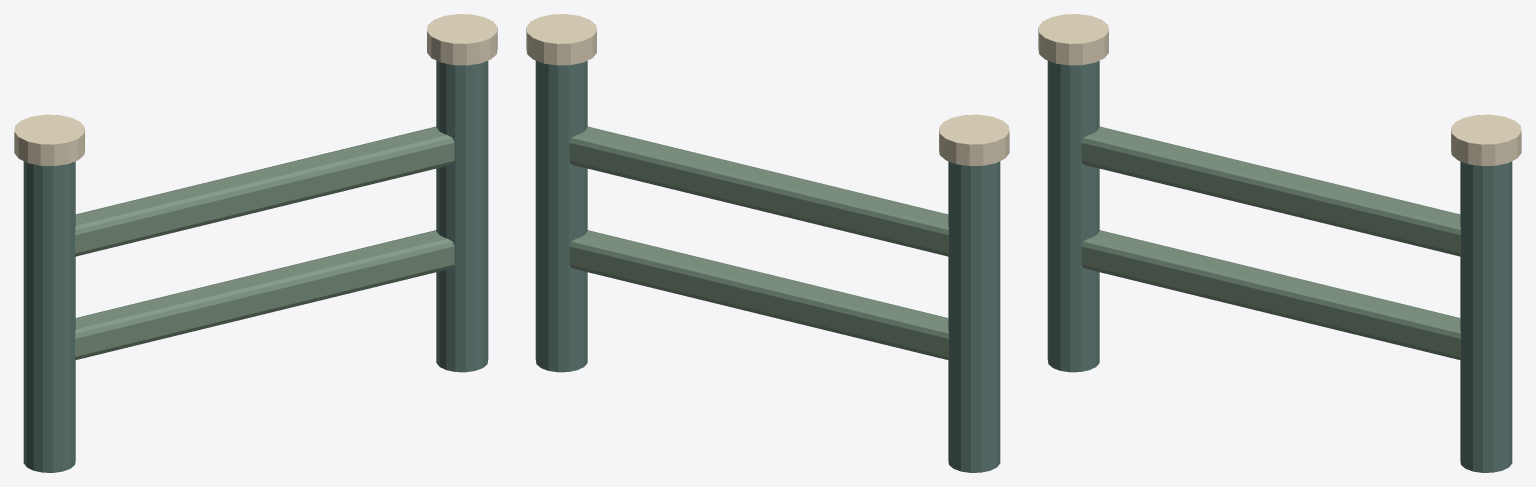
File: fence_segment.glb
3 views of the same model, side by side, from view 1: azimuth 30°, elevation 25°; view 2: azimuth 150°, elevation 25°; view 3: azimuth 330°, elevation 25° (orthographic).
Parts seen in each view (by area): view 1: post_-0.5, rail_0.27, rail_0.51, post_0.5, cap_0.5, cap_-0.5; view 2: post_-0.5, rail_0.27, rail_0.51, post_0.5, cap_0.5, cap_-0.5; view 3: post_0.5, rail_0.27, rail_0.51, post_-0.5, cap_-0.5, cap_0.5.
Boxes of the visible parts, left/top/right/bottom form: post_-0.5: left=23, top=161, right=75, bottom=472; rail_0.27: left=75, top=230, right=454, bottom=360; rail_0.51: left=75, top=126, right=454, bottom=256; post_0.5: left=436, top=60, right=488, bottom=372; cap_0.5: left=427, top=14, right=497, bottom=65; cap_-0.5: left=14, top=114, right=84, bottom=165; post_-0.5: left=948, top=161, right=1000, bottom=472; rail_0.27: left=569, top=230, right=948, bottom=360; rail_0.51: left=569, top=126, right=948, bottom=256; post_0.5: left=535, top=60, right=587, bottom=372; cap_0.5: left=526, top=14, right=596, bottom=65; cap_-0.5: left=939, top=114, right=1009, bottom=165; post_0.5: left=1460, top=161, right=1512, bottom=472; rail_0.27: left=1081, top=230, right=1460, bottom=360; rail_0.51: left=1081, top=126, right=1460, bottom=256; post_-0.5: left=1047, top=60, right=1099, bottom=372; cap_-0.5: left=1038, top=14, right=1108, bottom=65; cap_0.5: left=1451, top=114, right=1521, bottom=165.
Size of the model in its own units: 1.15 by 0.77 by 0.15.
